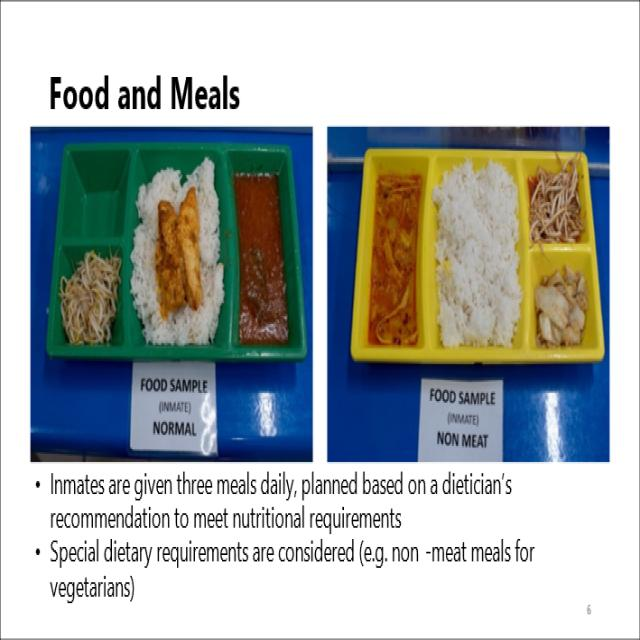Fish: (155, 189, 202, 318)
Non green veg: (60, 250, 121, 345), (530, 154, 583, 242), (534, 265, 589, 346)
Rice: (131, 157, 224, 346), (431, 160, 521, 345), (130, 170, 220, 345)
